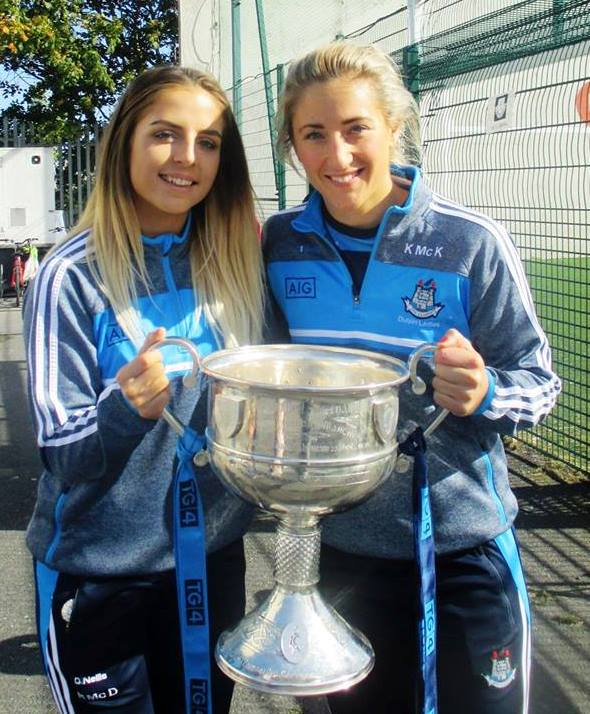player: (275, 42, 558, 680), (69, 70, 263, 666)
